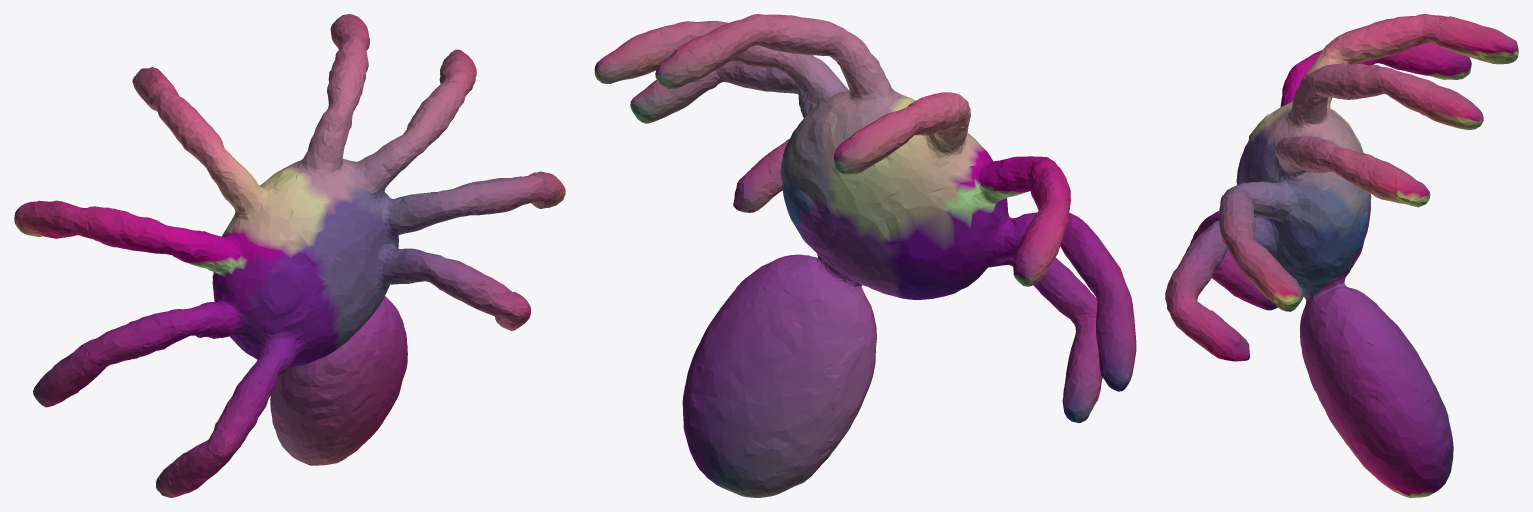
The model's file is spider-4.off.obj.
3 views of the same model, side by side, from view 1: azimuth 30°, elevation 25°; view 2: azimuth 150°, elevation 25°; view 3: azimuth 270°, elevation 25° (orthographic). The views are drawn at different scales.
Bounding box in the file's own units: 1.66 × 1.38 × 1.03.
